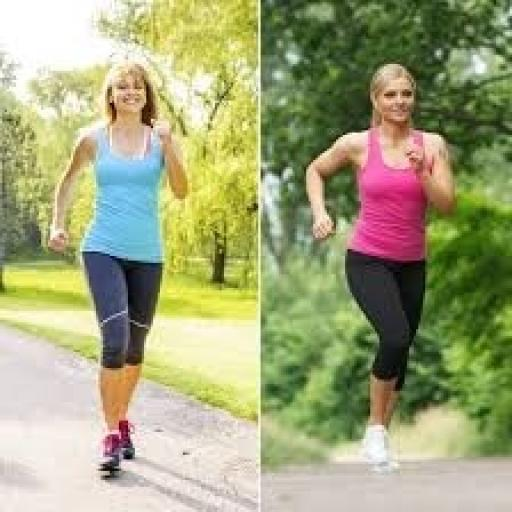running: (302, 60, 462, 476), (43, 57, 192, 480)
